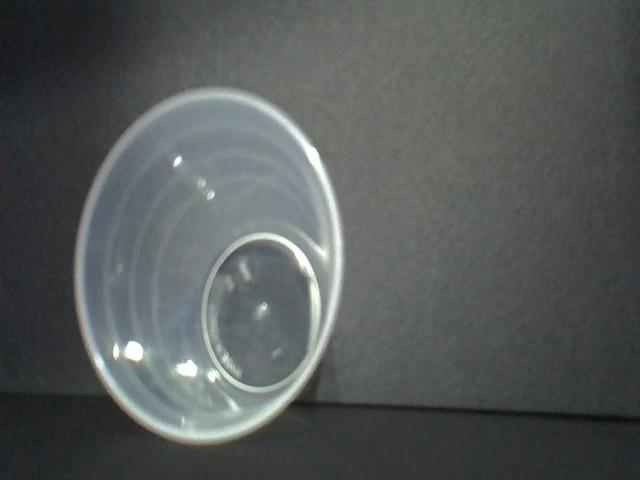cup: (72, 87, 349, 453)
